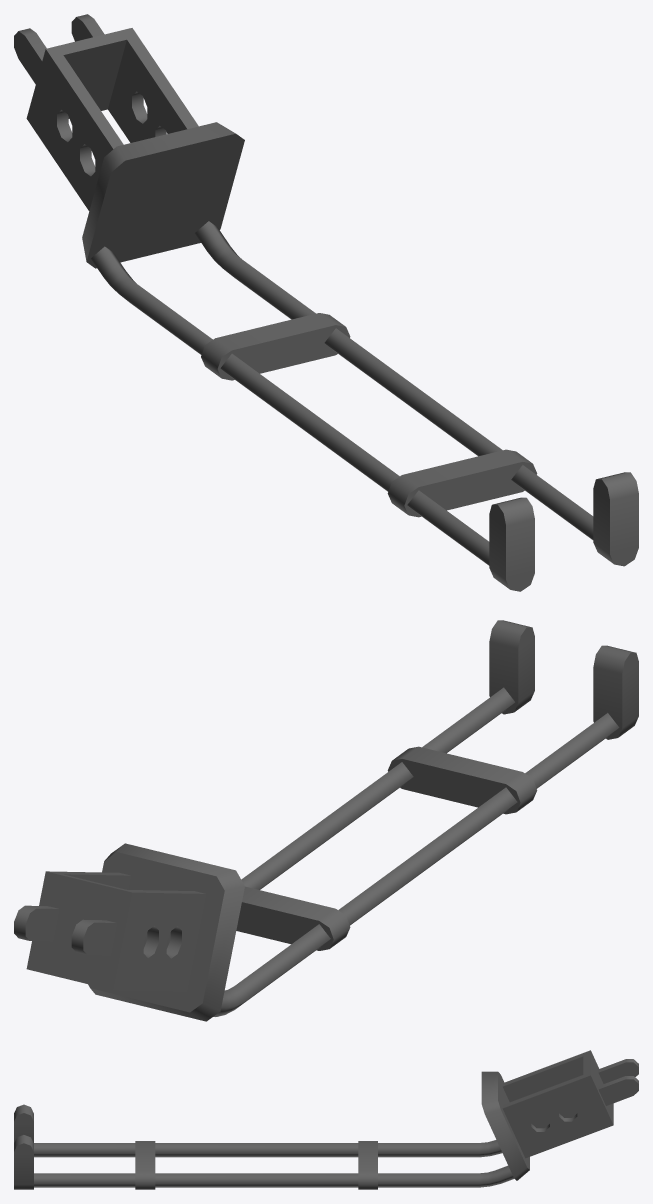
File: Tantares_Antenna_2_1_Arm.obj
3 renders of one model, top to bottom at view 1: azimuth 30°, elevation 25°; view 2: azimuth 150°, elevation 25°; view 3: azimuth 270°, elevation 25°, orthographic. The views are drawn at different scales.
Visible parts, largest first — view 1: Tantares_Antenna_2_1_Arm; view 2: Tantares_Antenna_2_1_Arm; view 3: Tantares_Antenna_2_1_Arm.
Boxes of the visible parts, x1,y1,x2,y2 form: Tantares_Antenna_2_1_Arm: (14,14,638,591); Tantares_Antenna_2_1_Arm: (14,620,638,1021); Tantares_Antenna_2_1_Arm: (14,1050,638,1189).
Size of the model in its own units: 0.145 by 0.1933 by 0.9815.
